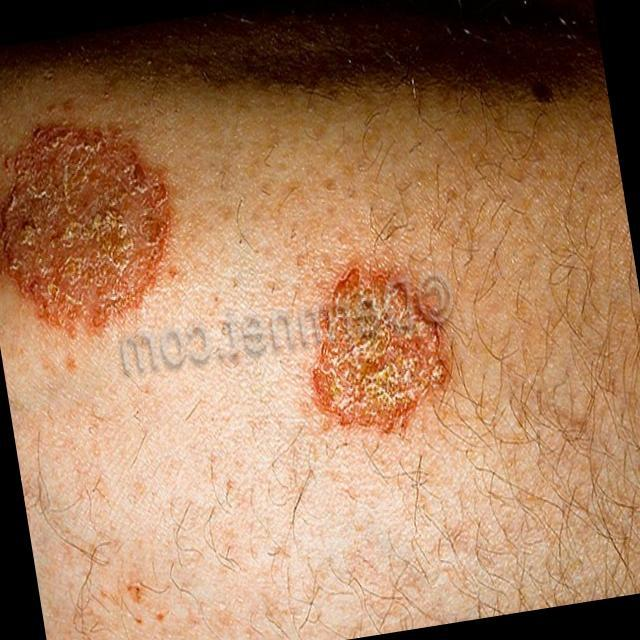Eczema: (0, 105, 175, 340), (301, 266, 460, 436)
